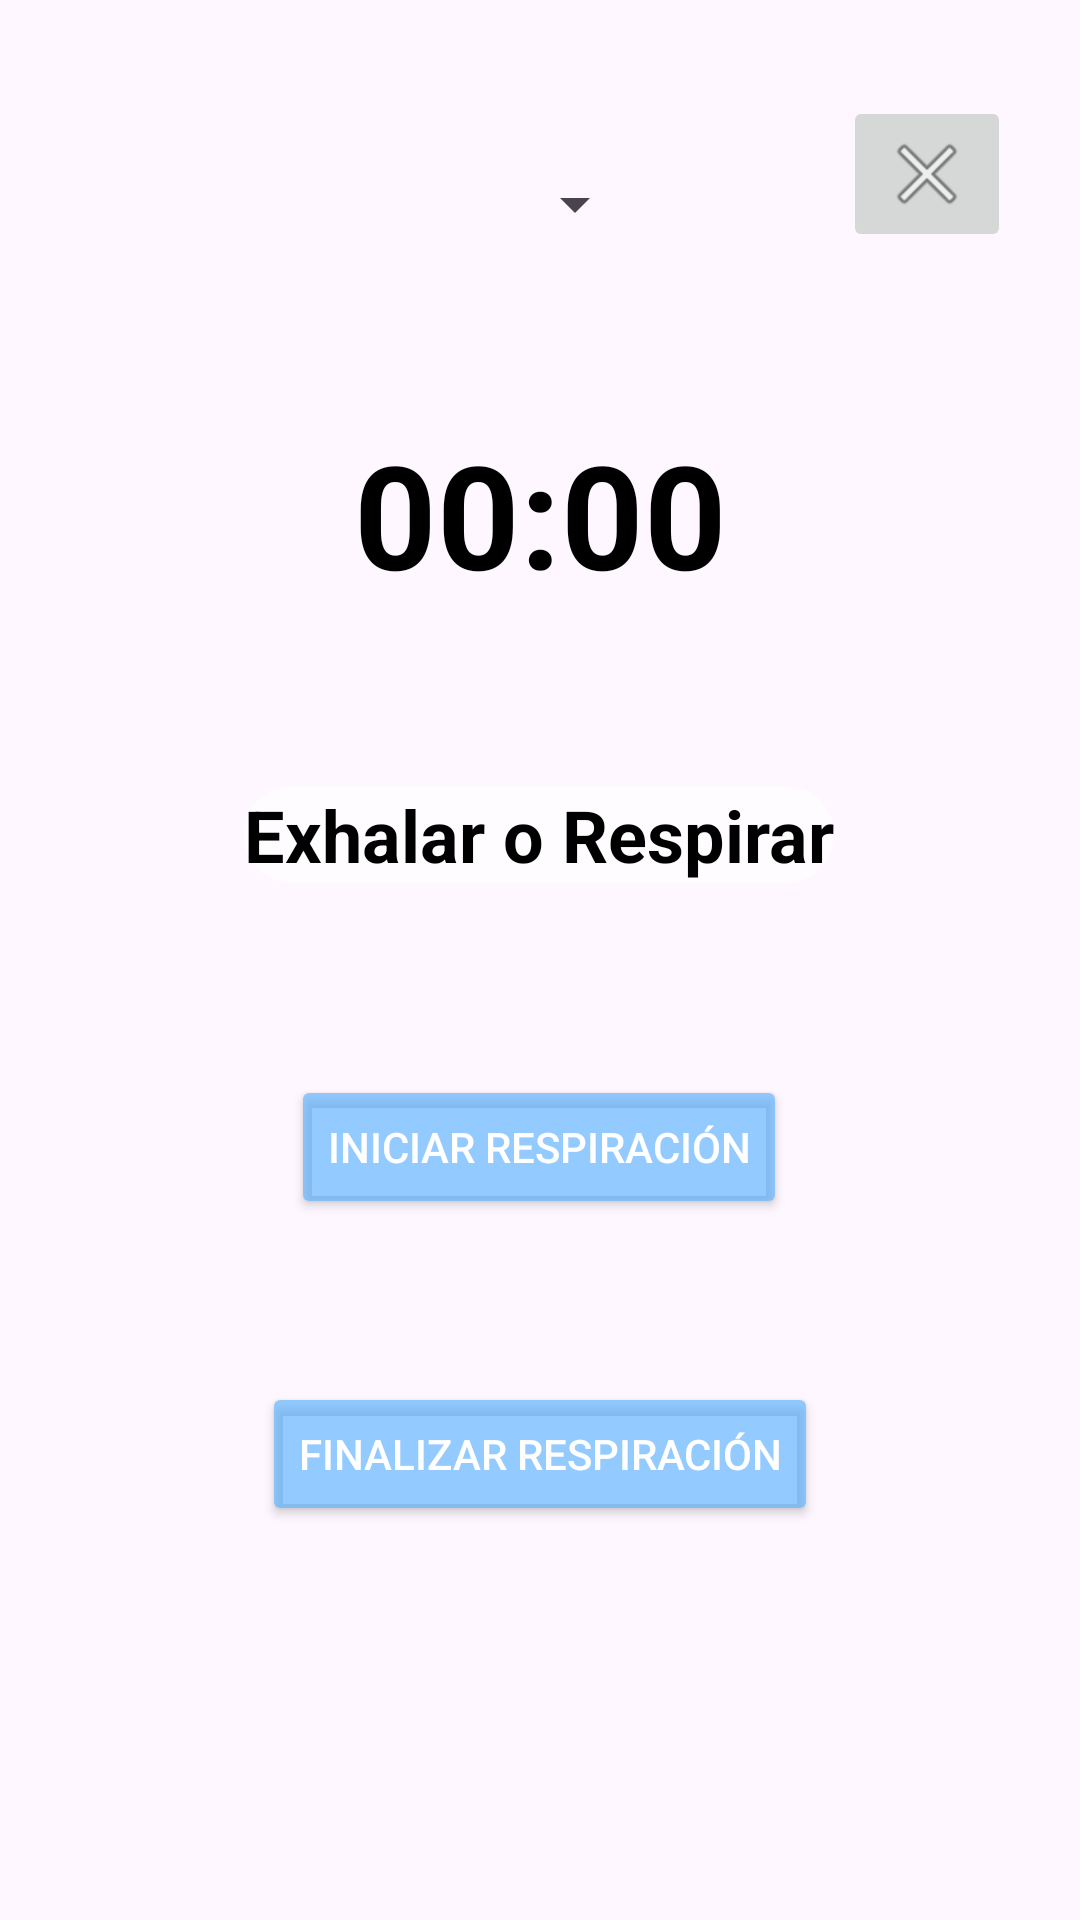

Icons on this 1080×1920 Android screen, each with the point to tap as point (x, y):
close clear cancel: point (927, 174)
